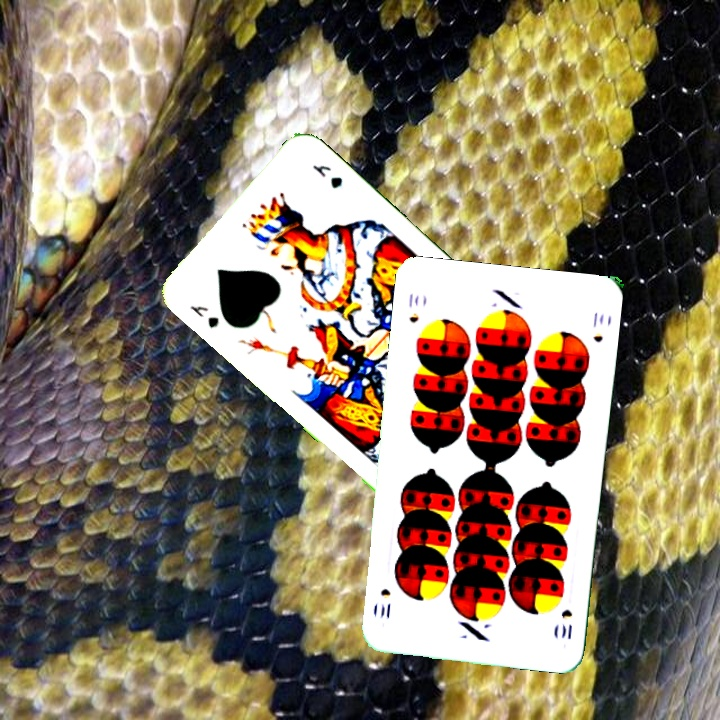GK: (185, 301, 222, 331)
S10: (557, 605, 575, 642), (404, 289, 421, 325)
